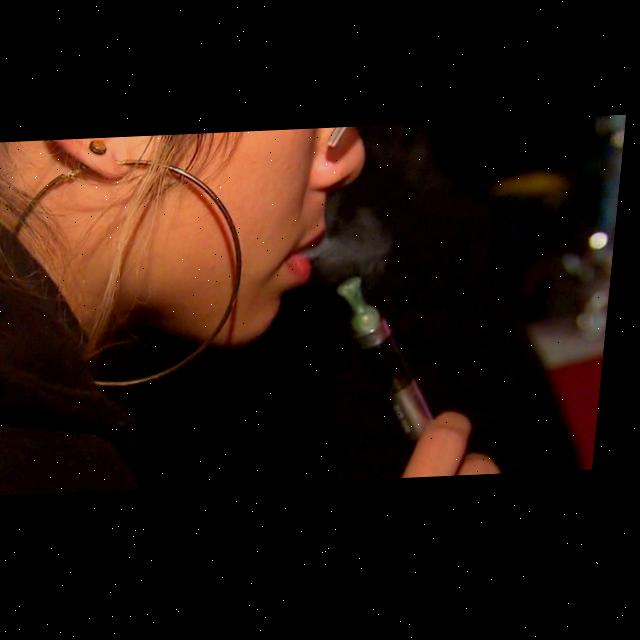vape: (330, 275, 454, 456)
